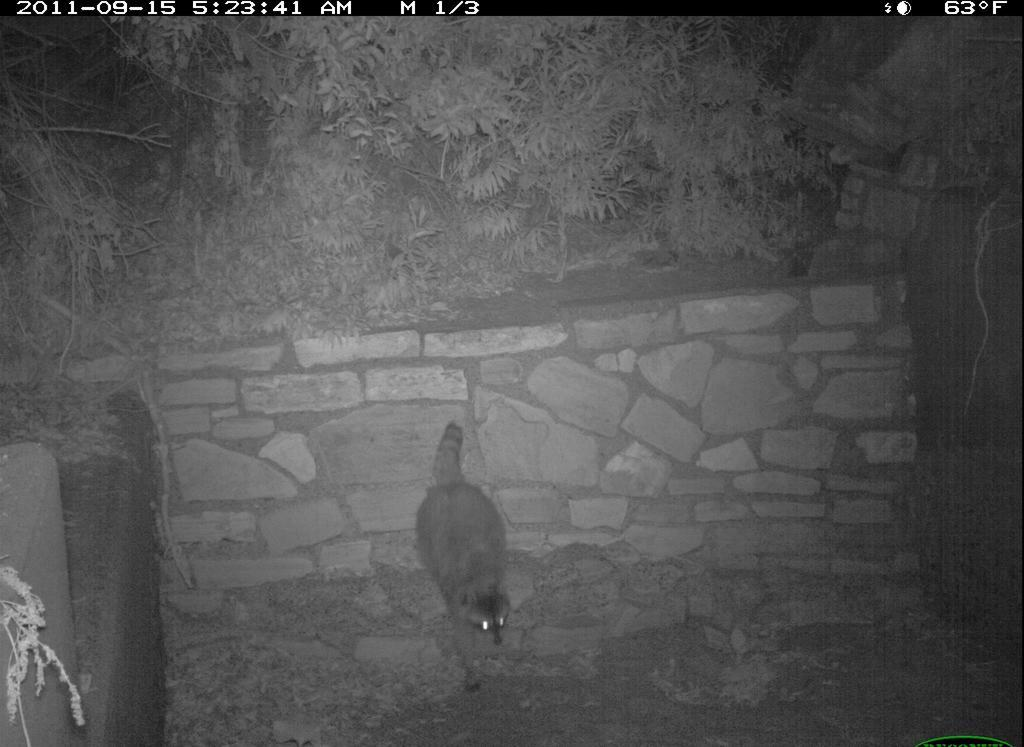raccoon: (414, 415, 546, 698)
